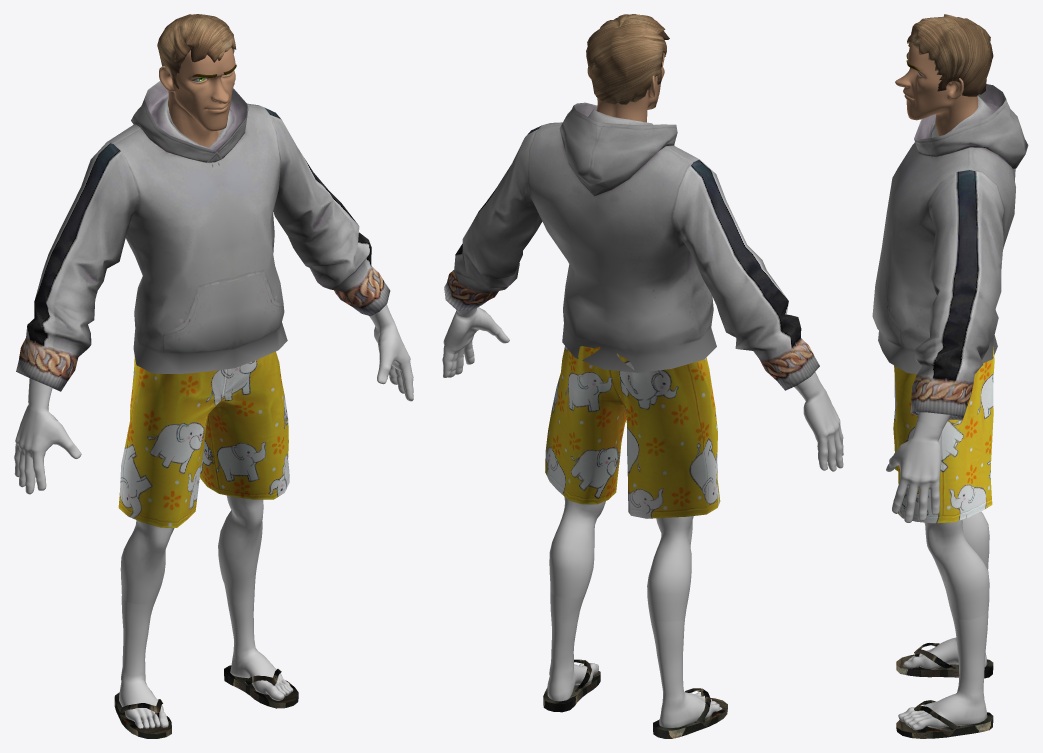
The model's file is M Character 6.fbx.
The picture shows the model from 3 angles, left to right: view 1: azimuth 30°, elevation 25°; view 2: azimuth 150°, elevation 25°; view 3: azimuth 270°, elevation 25°; orthographic projection.
Visible parts, largest first — view 1: M_t shirt 2, M_shorts 3, m_legs, m_legs.001, m_body.001, m_head, m_hair 10, M_slipper; view 2: M_t shirt 2, M_shorts 3, m_legs.001, m_legs, m_hair 10, m_body.001, M_slipper, m_head; view 3: M_t shirt 2, M_shorts 3, m_legs, m_legs.001, m_hair 10, m_body.001, m_head, M_slipper, m_body.003.
Part boxes in pixels (x1,y1,x2,y2): M_t shirt 2: (16, 81, 390, 391); M_shorts 3: (118, 351, 289, 527); m_legs: (119, 573, 293, 728); m_legs.001: (120, 495, 263, 604); m_body.001: (14, 307, 413, 494); m_head: (159, 47, 236, 147); m_hair 10: (157, 14, 236, 88); M_slipper: (114, 665, 298, 738); M_t shirt 2: (444, 102, 819, 390); M_shorts 3: (545, 346, 720, 518); m_legs.001: (549, 496, 693, 621); m_legs: (547, 591, 722, 727); m_hair 10: (586, 14, 669, 104); m_body.001: (442, 307, 843, 471); M_slipper: (543, 659, 727, 738); m_head: (587, 52, 665, 122); M_t shirt 2: (872, 84, 1028, 419); M_shorts 3: (893, 347, 994, 523); m_legs: (898, 564, 988, 730); m_legs.001: (924, 511, 989, 619); m_hair 10: (907, 14, 993, 96); m_body.001: (886, 421, 942, 522); m_head: (895, 45, 978, 136); M_slipper: (896, 643, 993, 738); m_body.003: (917, 412, 950, 428).
Size of the model in its own units: 117 by 199 by 41.29.
